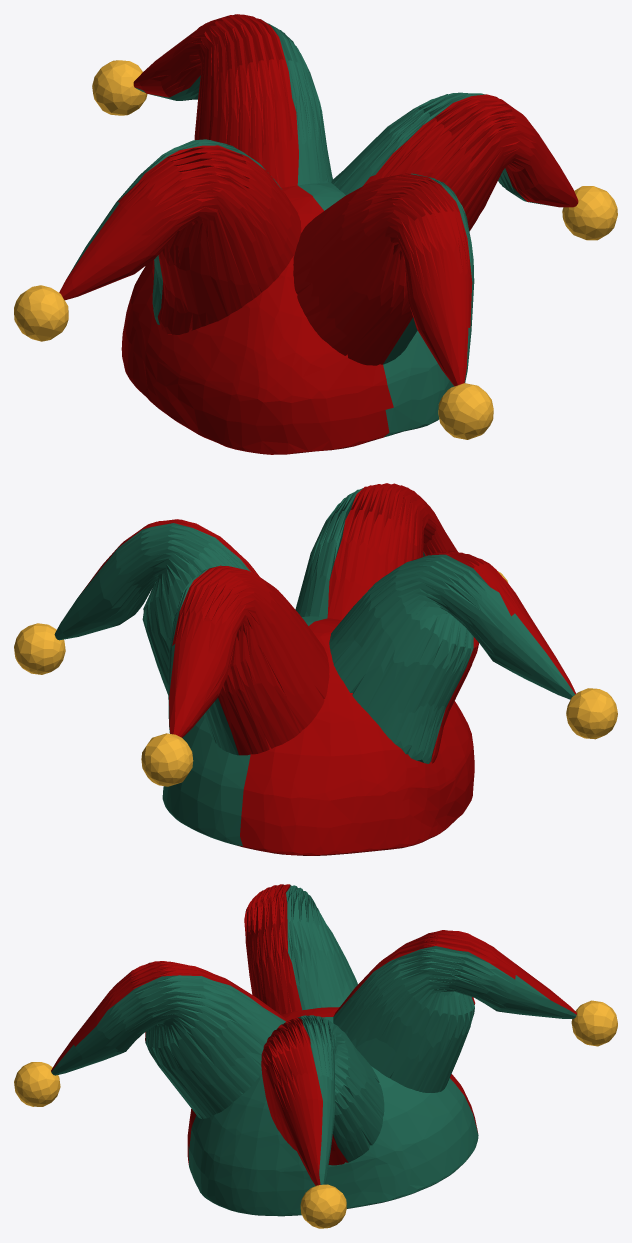
File: hat.gltf
3 renders of one model, top to bottom at view 1: azimuth 30°, elevation 25°; view 2: azimuth 150°, elevation 25°; view 3: azimuth 270°, elevation 25°, orthographic. The views are drawn at different scales.
Parts seen in each view (by area): view 1: Hat; view 2: Hat; view 3: Hat.
Part boxes in pixels (left/top/right/bottom): Hat: left=14, top=14, right=617, bottom=454; Hat: left=14, top=483, right=617, bottom=855; Hat: left=14, top=884, right=617, bottom=1228.
Size of the model in its own units: 2.89 by 1.35 by 3.
